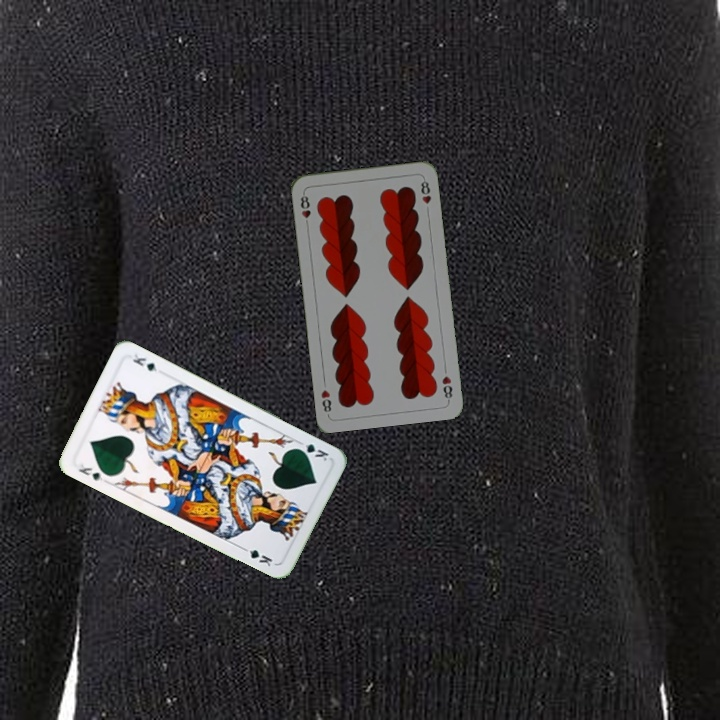GK: (292, 437, 331, 464), (73, 459, 109, 485)
H8: (297, 189, 313, 229), (438, 372, 455, 403)
